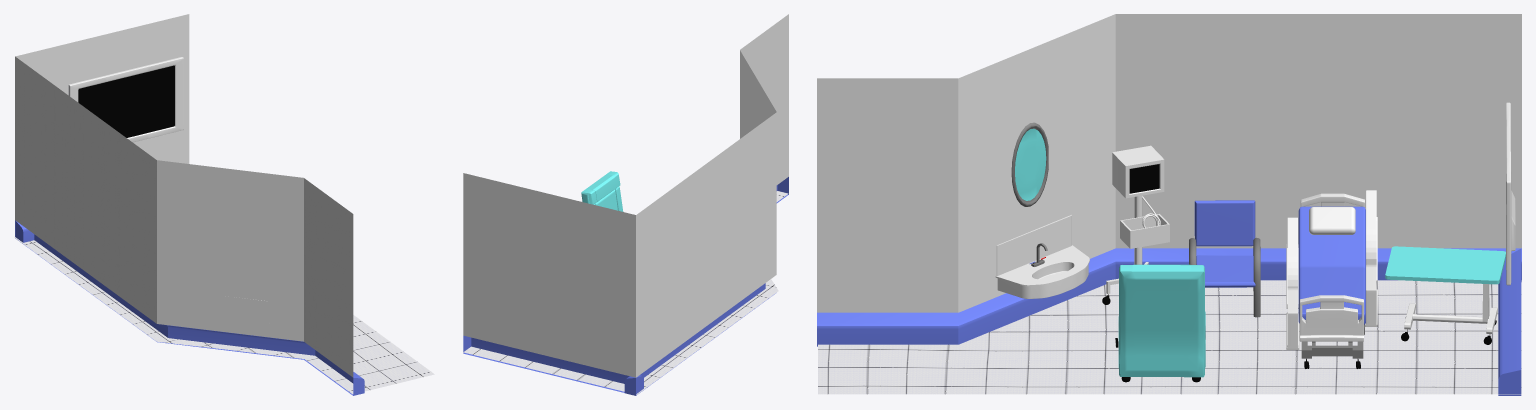
Rendered from WadeFarr_Hospital.fbx.
3 renders of one model, left to right at view 1: azimuth 30°, elevation 25°; view 2: azimuth 150°, elevation 25°; view 3: azimuth 270°, elevation 25°, orthographic. The views are drawn at different scales.
Parts seen in each view (by area): view 1: pPlane2, pPlane3, Wade_TV:pCube1, WadeHospitalChairComfy:Floor, Sink; view 2: pPlane3, pPlane2, WadeHospitalChairComfy:Floor, WadeHospitalChairComfy:pCube1; view 3: pPlane2, WadeHospitalChairComfy:Floor, WadeHospitalChairComfy:pCube1, Sink, WadeHospitalBed:pCube2, WadeRollingTable:pCube2, pPlane3, WadeHospitalChairBaby:pCube2, Wade_Rolling_Monitor:Monitor, WadeHospitalBed:pCube4, WadeHospitalChairComfy:Mirror, WadeHospitalChairBaby:pCube3 (+11 smaller).
Part boxes in pixels (x1,y1,x2,y2): pPlane2: (15,56,364,395); pPlane3: (15,14,189,243); Wade_TV:pCube1: (68,57,183,142); WadeHospitalChairComfy:Floor: (14,237,434,394); Sink: (216,295,269,323); pPlane3: (463,173,643,395); pPlane2: (624,14,788,395); WadeHospitalChairComfy:Floor: (463,191,788,394); WadeHospitalChairComfy:pCube1: (581,171,623,211); pPlane2: (817,14,1521,346); WadeHospitalChairComfy:Floor: (818,280,1521,394); WadeHospitalChairComfy:pCube1: (1118,264,1205,377); Sink: (995,215,1089,298); WadeHospitalBed:pCube2: (1298,206,1365,324); WadeRollingTable:pCube2: (1385,246,1505,284); pPlane3: (1498,249,1521,395); WadeHospitalChairBaby:pCube2: (1194,200,1255,246); Wade_Rolling_Monitor:Monitor: (1106,145,1164,293); WadeHospitalBed:pCube4: (1299,295,1363,341); WadeHospitalChairComfy:Mirror: (1011,122,1048,206); WadeHospitalChairBaby:pCube3: (1196,255,1255,287).
Bounding box in the file's own units: 30.98 × 30.75 × 75.42.
Materials: 1 (1 with a texture image).
